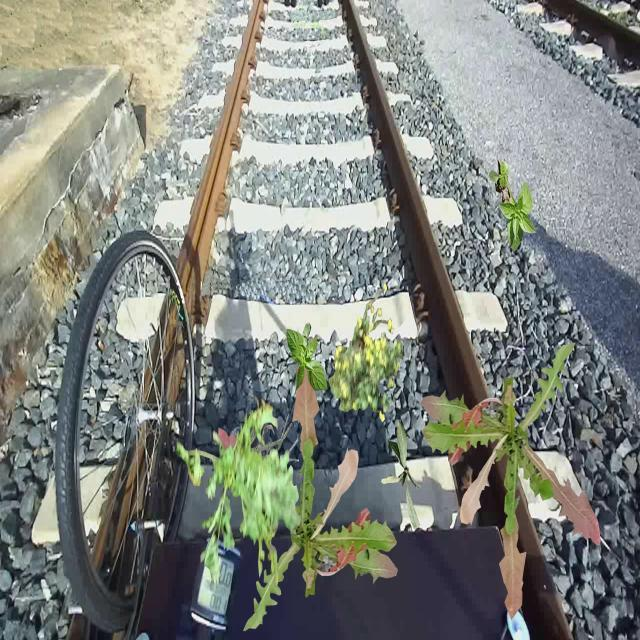Plant: (218, 353, 398, 631), (421, 343, 601, 621), (177, 396, 302, 592), (329, 283, 404, 423), (226, 414, 299, 538), (489, 157, 537, 252), (381, 421, 421, 531), (286, 323, 328, 394)
